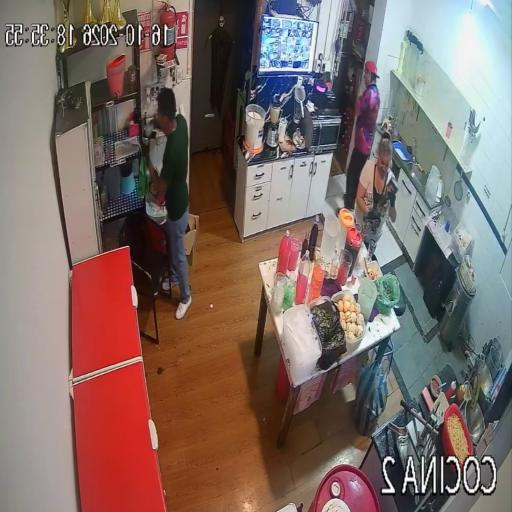Balde: (245, 104, 265, 152)
Cernidor: (294, 85, 306, 118)
Jarra1: (345, 227, 363, 277)
Jarra2: (337, 208, 355, 248)
Jarra3: (358, 278, 377, 321)
Jarra4: (320, 214, 341, 265)
Licuadora: (287, 100, 303, 137)
Licuadora2: (266, 96, 281, 149)
Microondas: (304, 109, 341, 153)
Persona1: (346, 61, 380, 209)
Persona2: (356, 136, 396, 256)
Persona3: (146, 88, 192, 319)
Taper: (364, 257, 383, 280)
Taper2: (331, 290, 366, 353)
Taper3: (310, 297, 347, 370)
Taper4: (282, 304, 322, 384)
